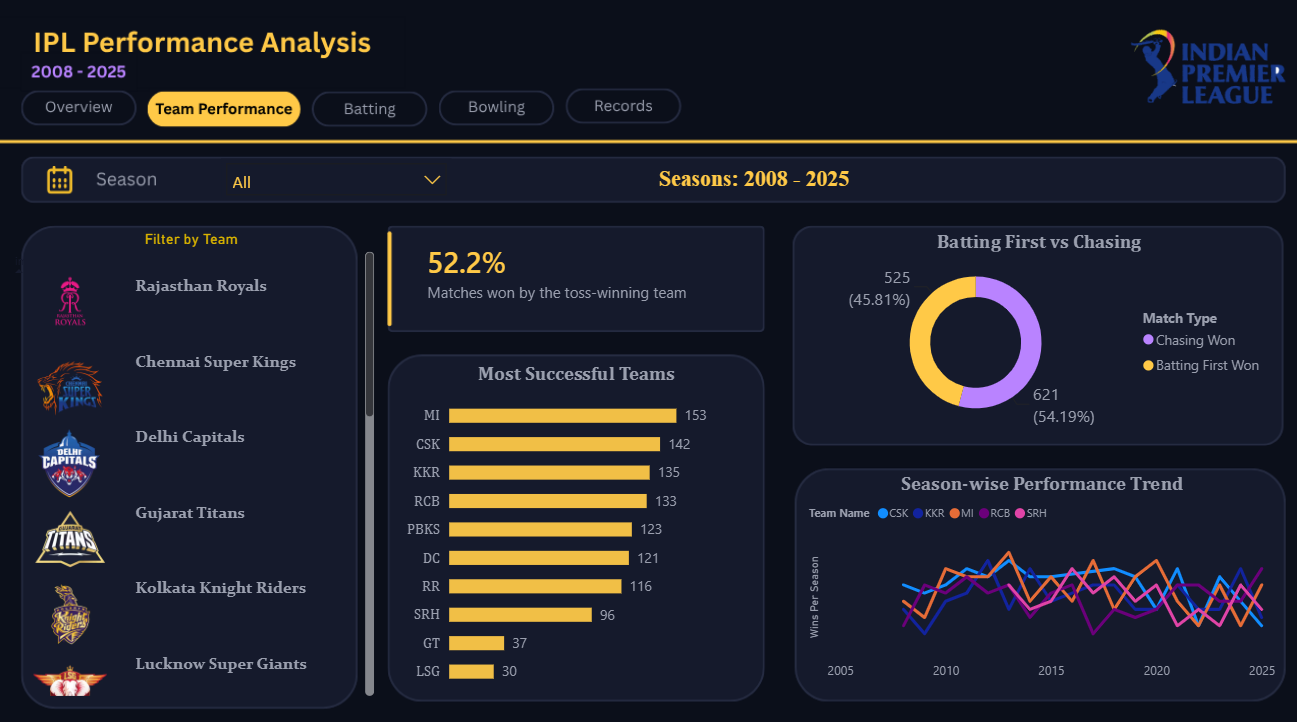

Layout of this report page (visuals, bound fields, positions):
{"tool":"powerbi","page":{"name":"Team Performance","canvas":[1280,720],"ordinal":1},"visuals":[{"type":"clusteredBarChart","title":"Most Successful Teams","fields":{"Category":["ipl_teams_clean.team_name_short"],"Y":["_Measures.Total Wins"]},"box":[395.1,359.5,343.6,327.6],"z":0},{"type":"lineChart","title":"Season-wise Performance Trend","fields":{"Category":["ipl_matches_clean.season"],"Y":["_Measures.Wins Per Season"],"Series":["ipl_teams_clean.team_name_short"]},"box":[790.2,467.5,467.5,212.3],"z":1000},{"type":"donutChart","title":"Batting First vs Chasing","fields":{"Category":["Chase_Defend.Result_Type"],"Y":["Sum(Chase_Defend.Match_Count)"]},"box":[790.2,229.4,461.4,200],"z":2000},{"type":"cardVisual","fields":{"Data":["_Measures.Toss Win %"]},"box":[391.4,229.4,330.1,89.6],"z":3000},{"type":"tableEx","title":"Filter by Team","fields":{"Values":["ipl_teams_clean.image_url","ipl_teams_clean.team_name"]},"box":[9.8,229.4,358.3,457.7],"z":4000},{"type":"slicer","fields":{"Values":["ipl_matches_clean.season"]},"box":[218.4,160,225.8,39],"z":5000},{"type":"image","box":[1108,28.2,158.3,81],"z":6000},{"type":"cardVisual","fields":{"Data":["_Measures.Season Range"]},"box":[592.6,158.3,292,47.9],"z":7000},{"type":"actionButton","box":[27,89.6,105.5,36.8],"z":8000},{"type":"actionButton","box":[308,89.6,110.4,39.3],"z":9000},{"type":"actionButton","box":[431.9,85.9,110.4,39.3],"z":10000},{"type":"actionButton","box":[557.1,85.9,110.4,39.3],"z":11000}]}

Visuals, with their boxes in screenshot pixels (x1, y1, x2, y2), scaled from the page's 1280x720 canvas onto the 1297x722 screenshot:
"Most Successful Teams" clusteredBarChart: <region>400, 360, 749, 689</region>
"Season-wise Performance Trend" lineChart: <region>801, 469, 1274, 682</region>
"Batting First vs Chasing" donutChart: <region>801, 230, 1268, 431</region>
cardVisual - _Measures.Toss Win %: <region>397, 230, 731, 320</region>
"Filter by Team" tableEx: <region>10, 230, 373, 689</region>
slicer - ipl_matches_clean.season: <region>221, 160, 450, 200</region>
image: <region>1123, 28, 1283, 110</region>
cardVisual - _Measures.Season Range: <region>600, 159, 896, 207</region>
actionButton: <region>27, 90, 134, 127</region>
actionButton: <region>312, 90, 424, 129</region>
actionButton: <region>438, 86, 550, 126</region>
actionButton: <region>564, 86, 676, 126</region>
